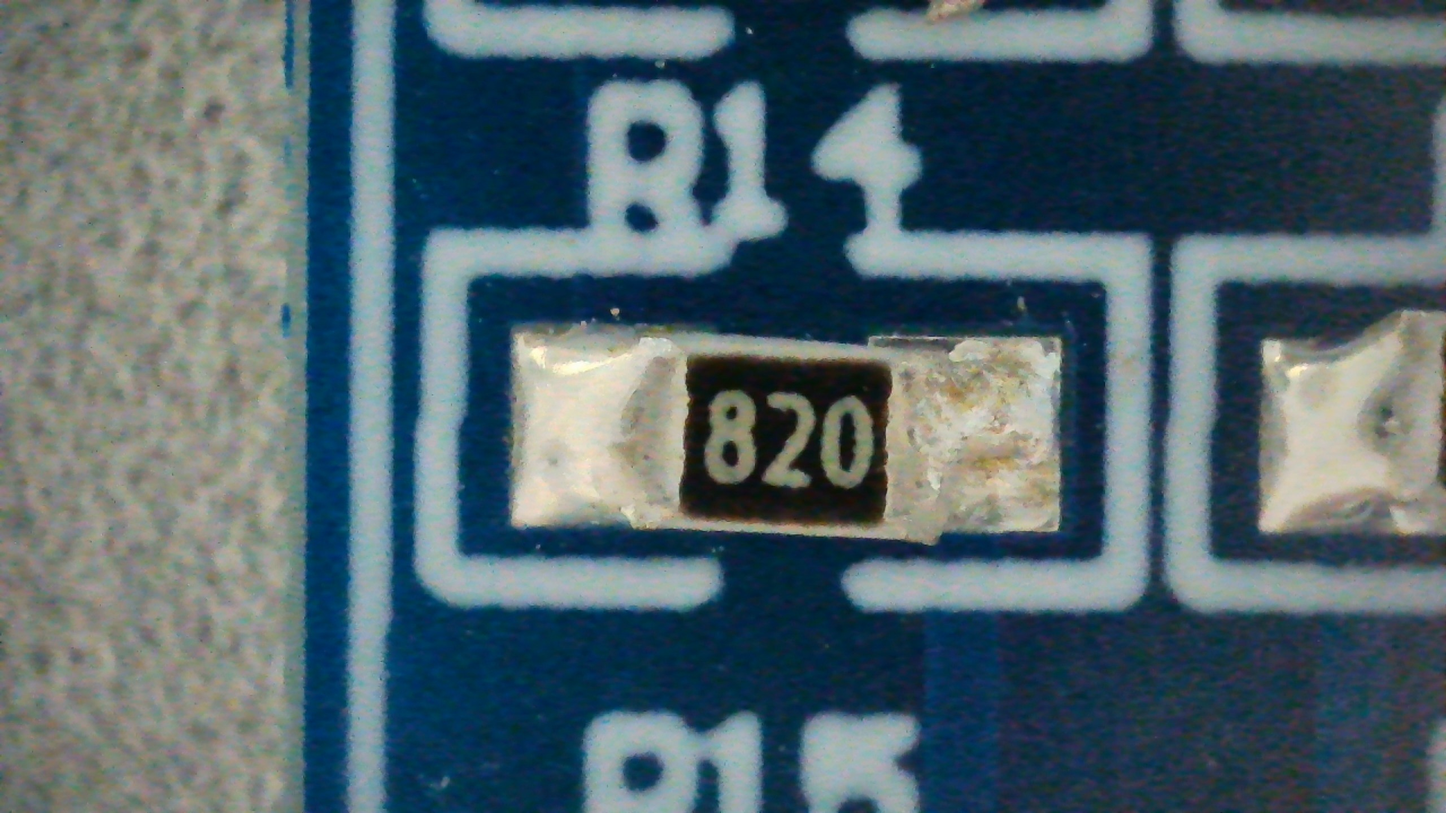NG: (512, 321, 1059, 544)
